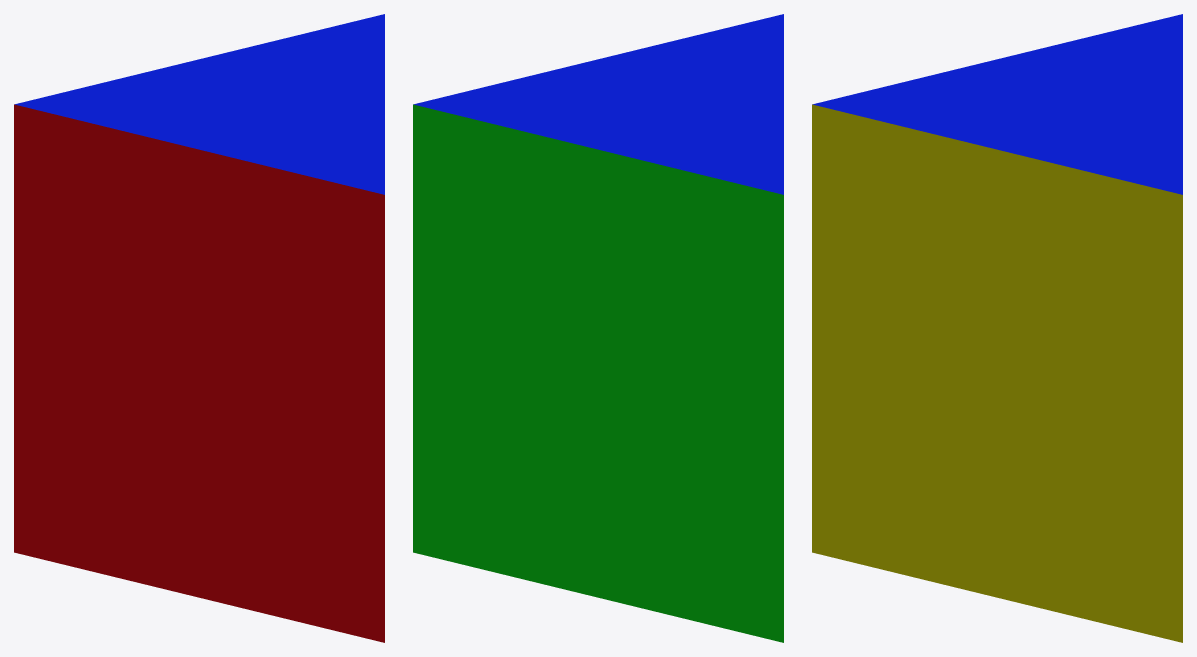
File: prisma-segitiga.glb
3 renders of one model, left to right at view 1: azimuth 30°, elevation 25°; view 2: azimuth 150°, elevation 25°; view 3: azimuth 270°, elevation 25°, orthographic.
Visible parts, largest first — view 1: Mesh_Mesh_head_geo.001_lambert2SG.001; view 2: Mesh_Mesh_head_geo.001_lambert2SG.001; view 3: Mesh_Mesh_head_geo.001_lambert2SG.001.
Part boxes in pixels (box(x1,y1,x2,y2)): Mesh_Mesh_head_geo.001_lambert2SG.001: box(14, 14, 384, 642); Mesh_Mesh_head_geo.001_lambert2SG.001: box(413, 14, 783, 642); Mesh_Mesh_head_geo.001_lambert2SG.001: box(812, 14, 1182, 642).
Bounding box in the file's own units: 1.73 × 2 × 1.5.
